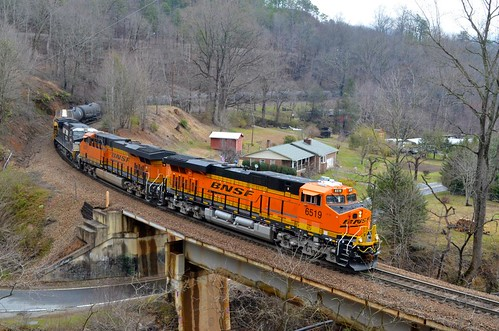bridge: (82, 203, 499, 331)
building: (246, 137, 344, 182), (204, 129, 247, 157)
train: (44, 108, 375, 261)
tree: (430, 6, 499, 276), (364, 169, 431, 257)
vegetation: (1, 1, 499, 137)
